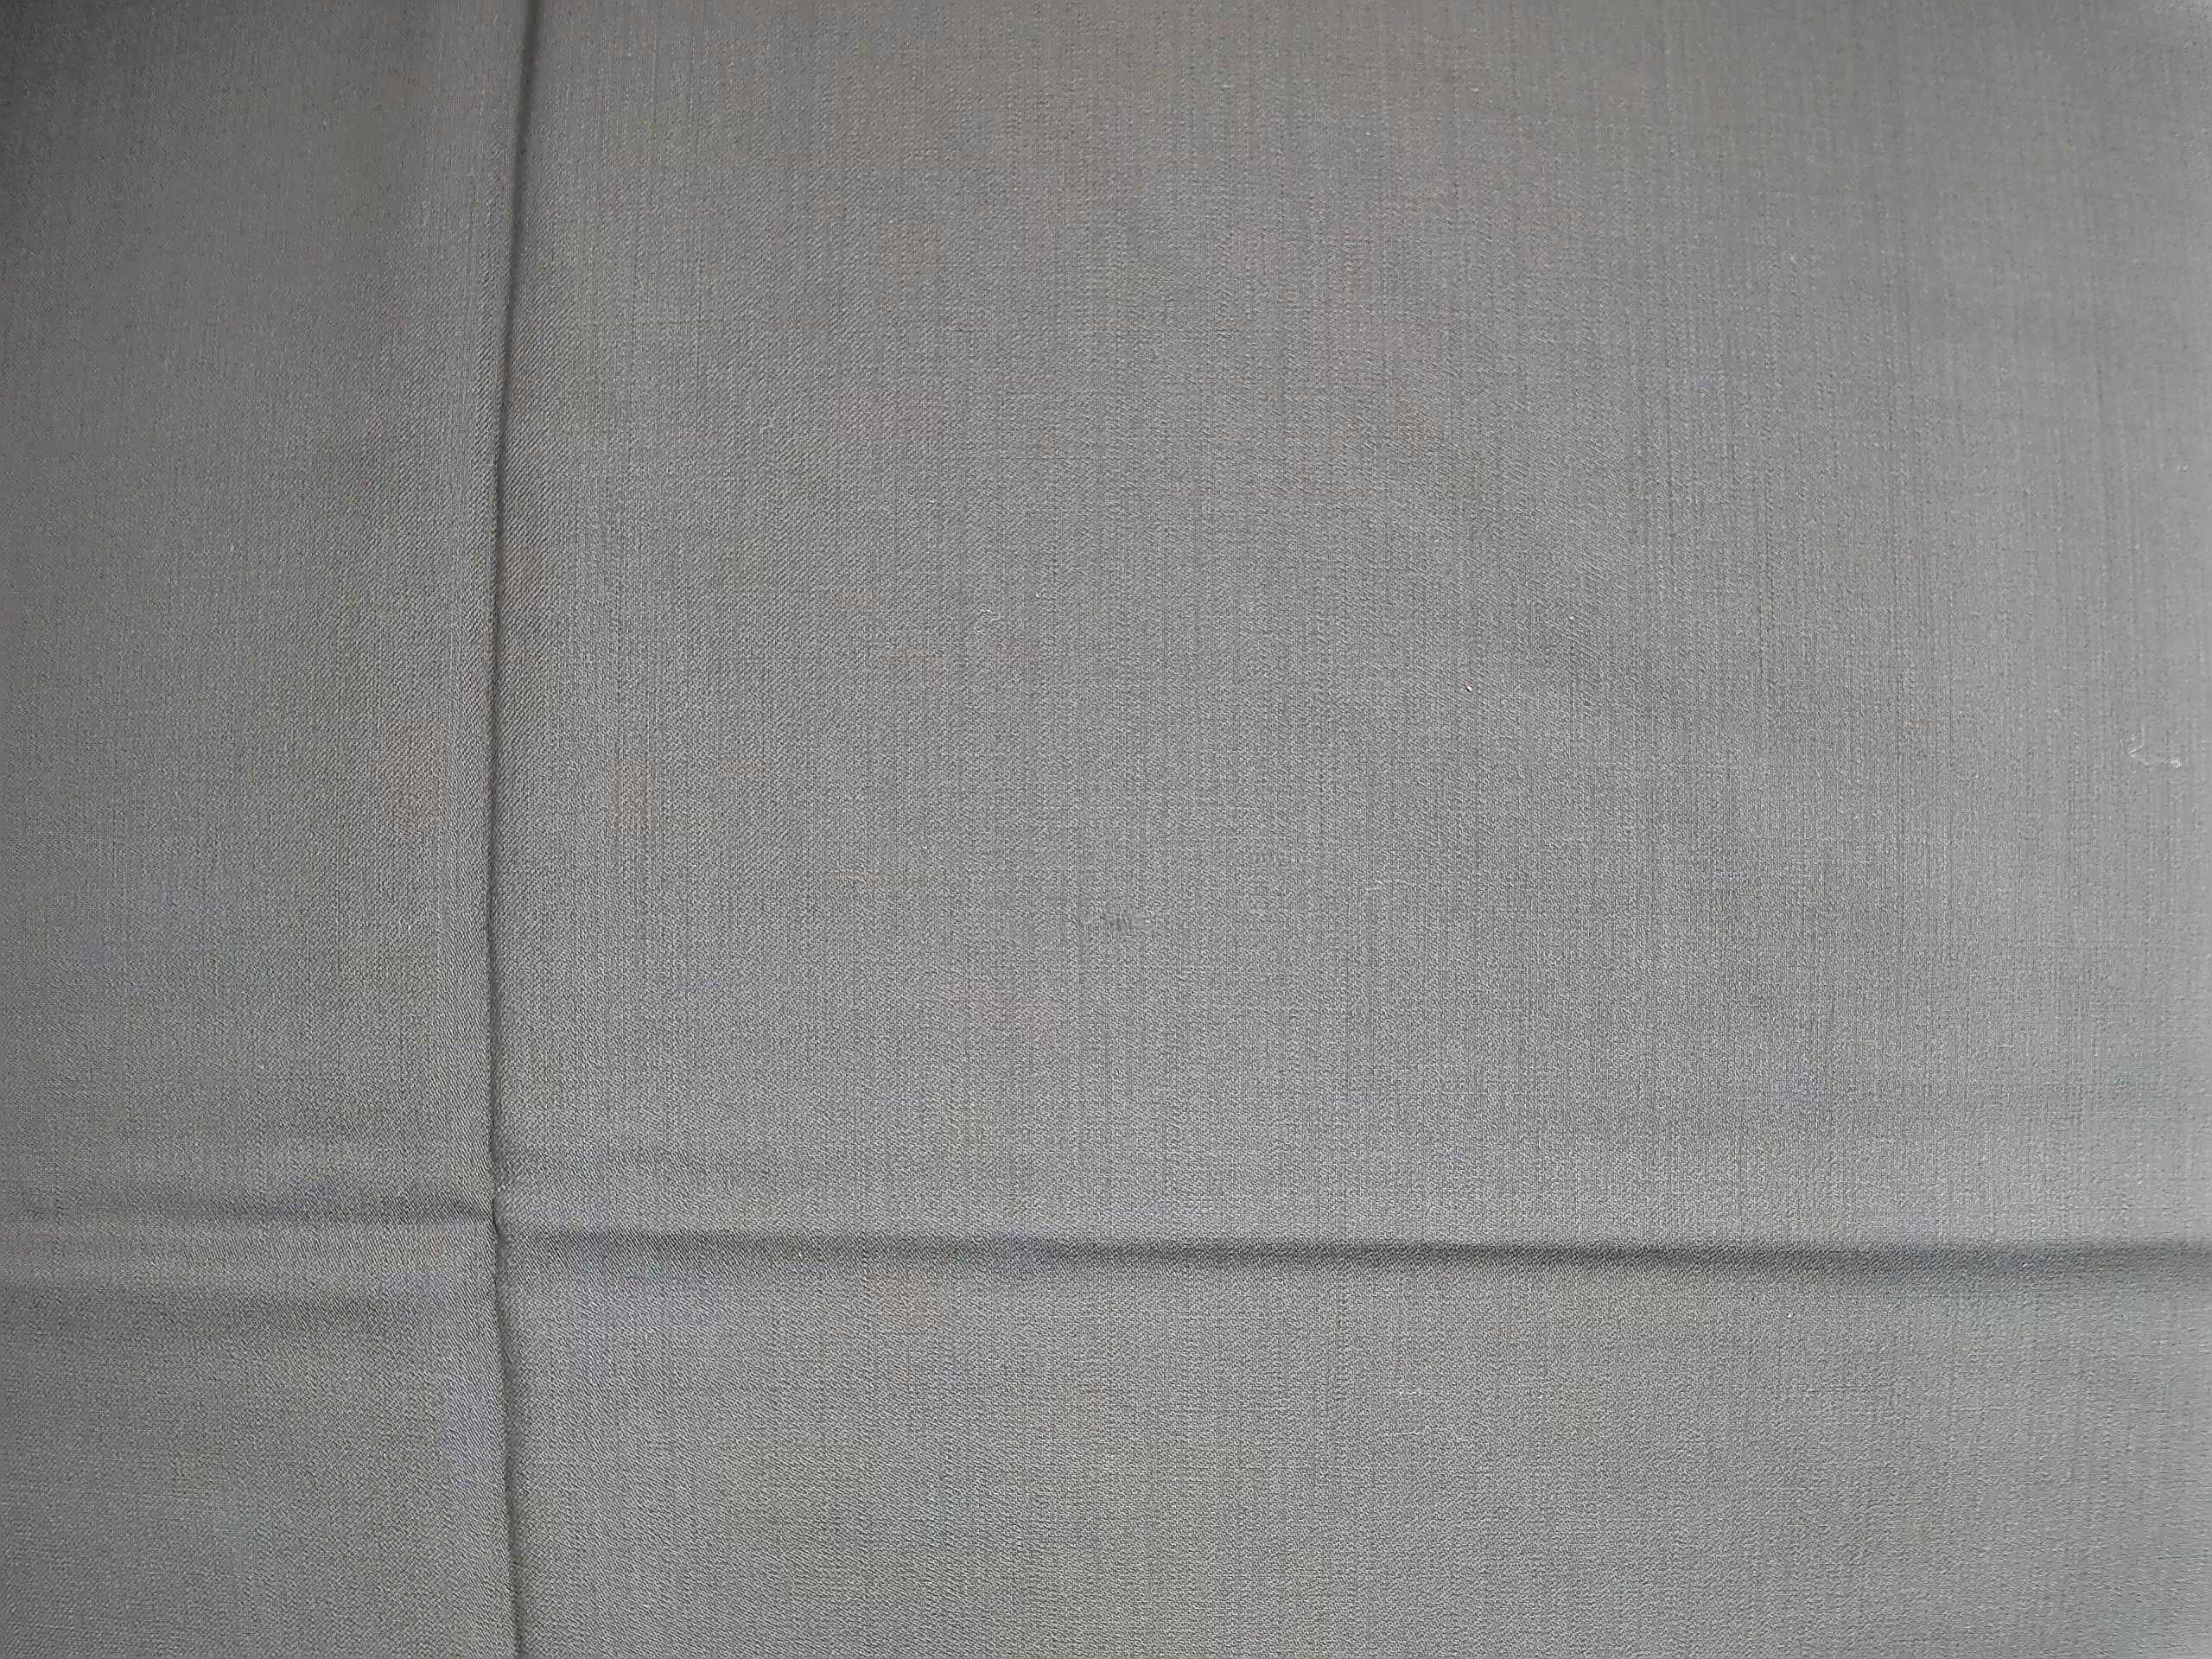bruise: (1031, 878, 1176, 964)
